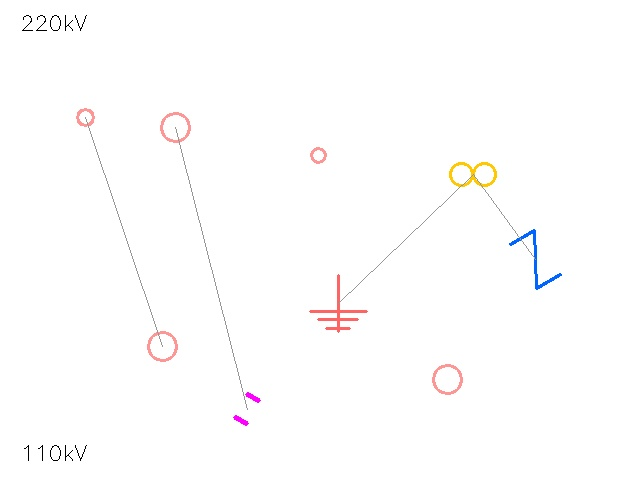capacitor: (226, 388, 268, 430)
circuit_breaker: (507, 231, 563, 287)
feeder_terminal: (133, 317, 191, 375)
fuse: (147, 99, 203, 155)
ground: (310, 275, 366, 331)
reactor: (418, 350, 476, 408)
transformer_2w: (445, 146, 501, 202)
voltage_transformer: (68, 100, 102, 134), (303, 140, 333, 170)
